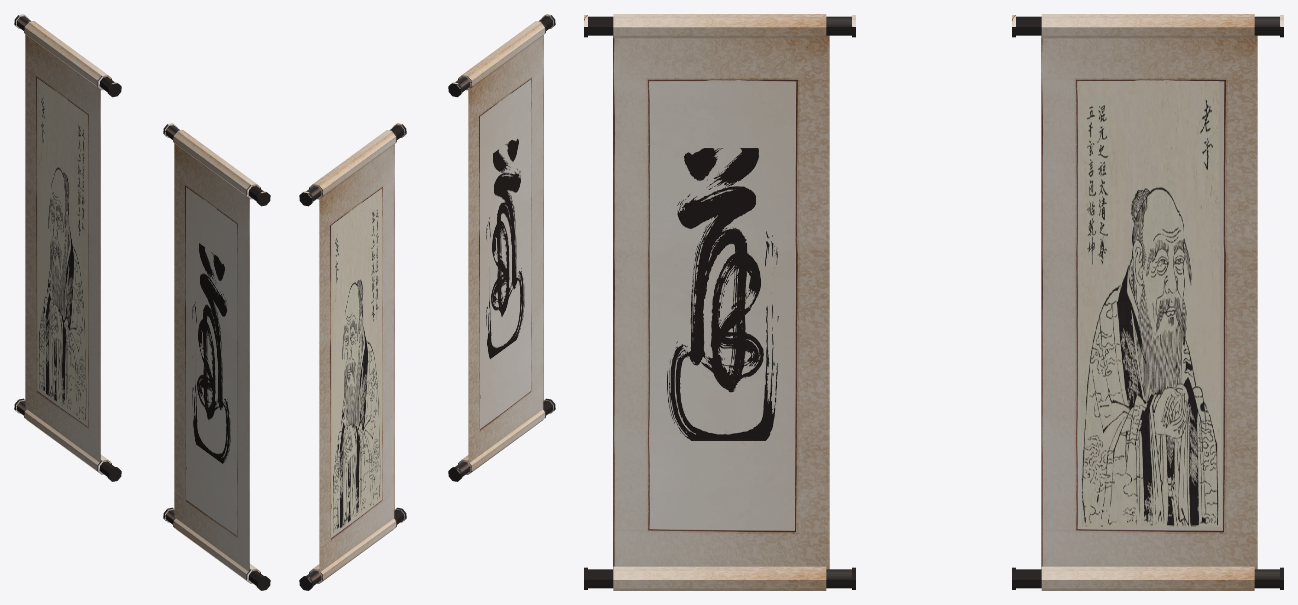
File: painting.fbx
3 views of the same model, side by side, from view 1: azimuth 30°, elevation 25°; view 2: azimuth 150°, elevation 25°; view 3: azimuth 270°, elevation 25° (orthographic). The views are drawn at different scales.
Visible parts, largest first — view 1: Cylinder.001, Cylinder.002; view 2: Cylinder.002, Cylinder.001; view 3: Cylinder.001, Cylinder.002.
Part boxes in pixels (x1=…): Cylinder.001: x1=163, y1=123, x2=270, y2=590; Cylinder.002: x1=14, y1=14, x2=121, y2=481; Cylinder.002: x1=299, y1=123, x2=406, y2=590; Cylinder.001: x1=448, y1=14, x2=555, y2=481; Cylinder.001: x1=584, y1=14, x2=855, y2=590; Cylinder.002: x1=1012, y1=14, x2=1283, y2=590.
Size of the model in its own units: 4.94 by 136 by 150.
2 materials, 2 textured.
